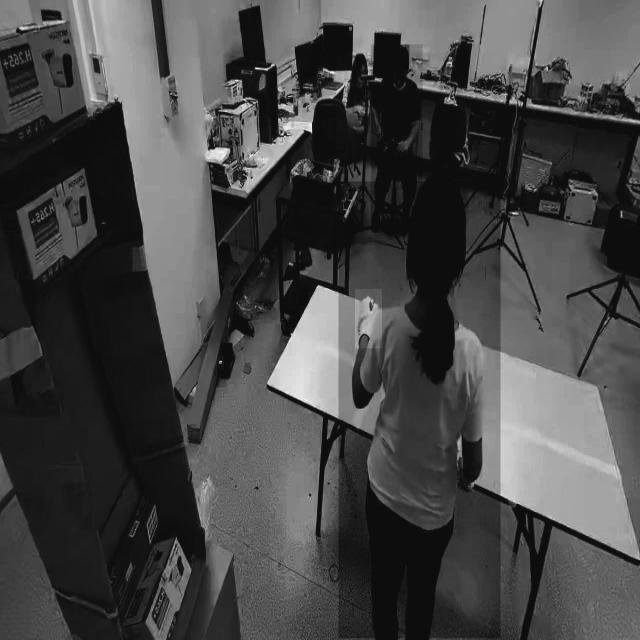face_nomask: (358, 68, 367, 86)
hand_glove: (355, 289, 382, 348)
hand_noglove: (396, 138, 412, 154), (357, 102, 367, 116), (376, 124, 384, 140)
head_nohelmet: (411, 171, 467, 225), (394, 44, 410, 60), (354, 52, 368, 65)
person: (338, 181, 500, 639), (370, 44, 422, 233), (335, 53, 369, 159)
